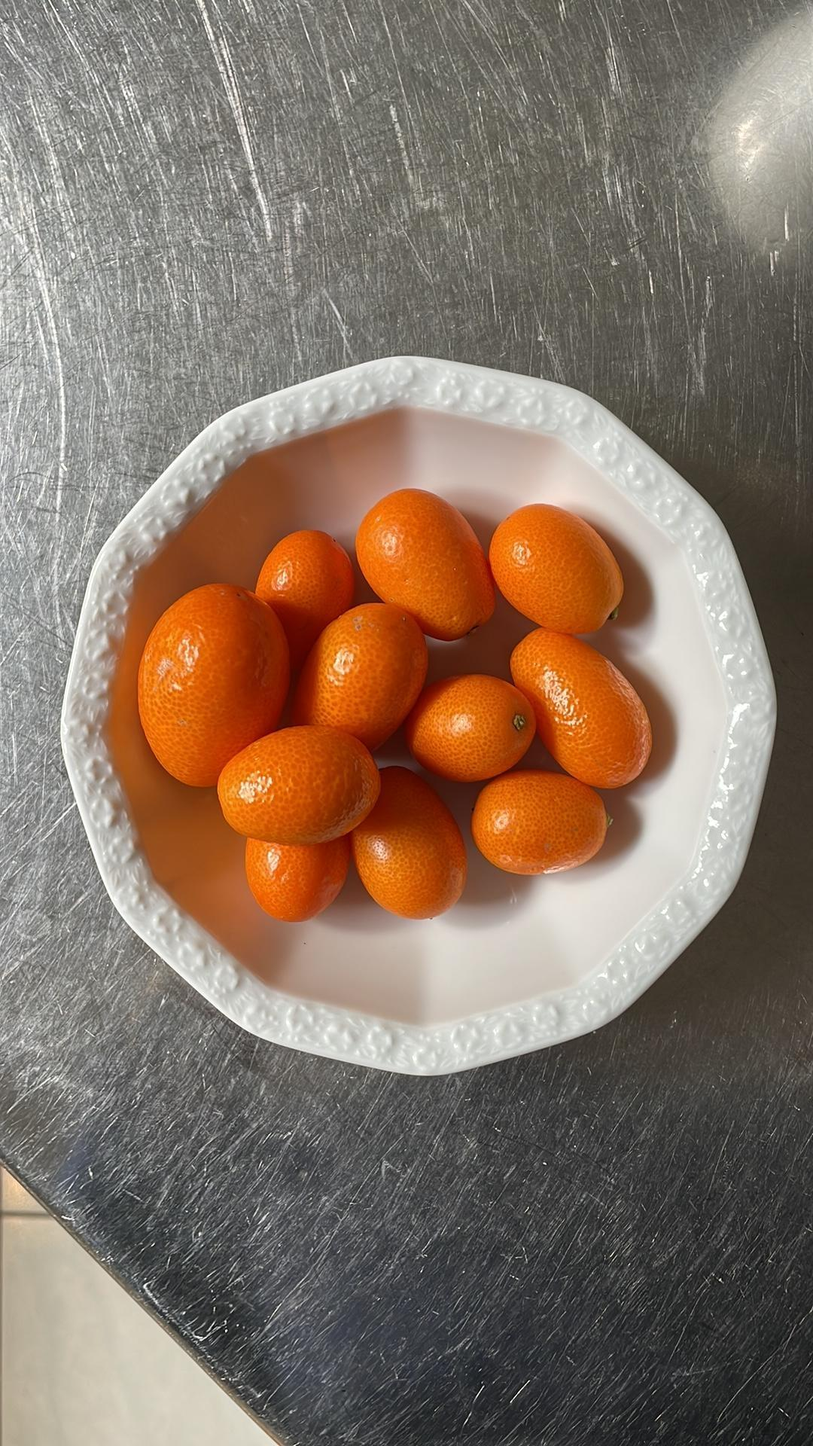orange: (137, 580, 285, 782), (358, 484, 496, 638), (514, 631, 656, 780), (486, 494, 629, 636), (287, 601, 423, 743), (219, 732, 380, 848), (356, 767, 467, 918), (473, 771, 625, 871), (398, 672, 531, 776), (254, 527, 351, 644), (241, 835, 350, 918)
